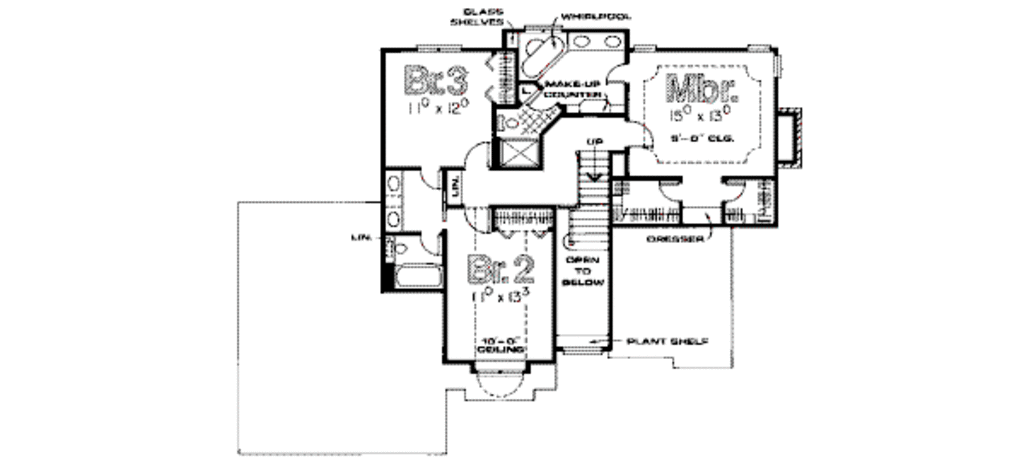door: (456, 206, 492, 237), (625, 116, 656, 149), (414, 227, 445, 258), (466, 138, 492, 172), (414, 164, 442, 191), (600, 60, 629, 86), (719, 174, 745, 202), (657, 180, 683, 205)
large_sink: (381, 231, 410, 266), (490, 110, 523, 134)
small_sink: (383, 163, 409, 235), (567, 30, 628, 56)
stairs: (562, 147, 619, 258)
tub: (518, 33, 569, 77), (392, 263, 445, 291)
window: (475, 358, 530, 382), (562, 340, 606, 361), (517, 21, 565, 39), (412, 41, 468, 53), (743, 41, 774, 58), (631, 41, 661, 55)
